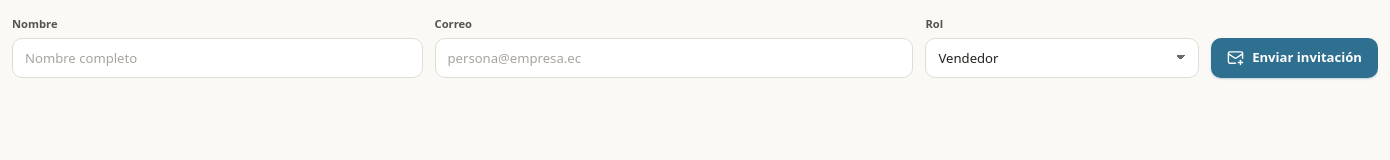
it: un rechazo del API se muestra junto al formulario y conserva lo escrito
Click the button "Enviar invitación" at (1295, 58), box [1211,38,1378,78]
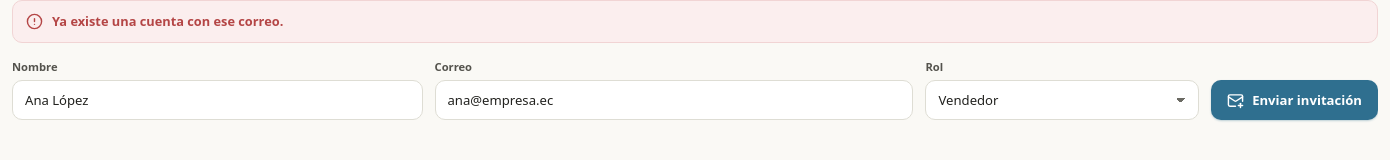
Check: the message reads "Ya existe una cuenta con ese correo.", box [52,12,283,30]
Check: the field labelled "Correo" holds "ana@empresa.ec", box [434,80,914,120]
